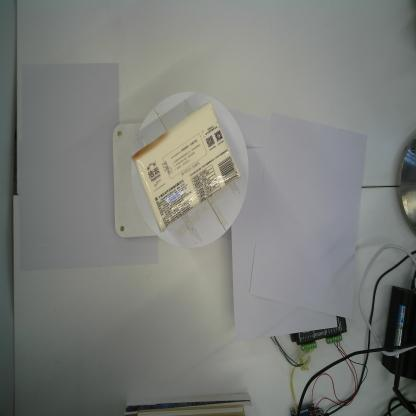Tissue: (132, 100, 241, 234)
